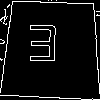E: (26, 24, 59, 72)
